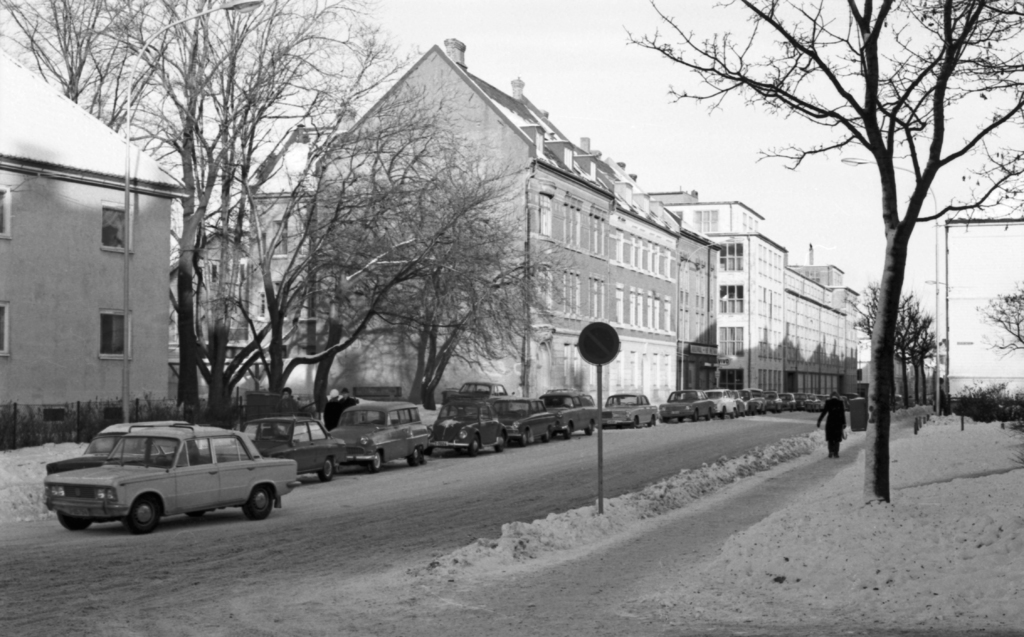Car: (48, 417, 215, 479), (242, 410, 347, 486), (330, 397, 427, 462), (428, 397, 506, 458), (492, 390, 557, 445), (591, 390, 658, 436), (547, 386, 600, 442), (654, 386, 714, 425), (708, 383, 737, 422), (458, 376, 503, 400), (732, 387, 746, 420), (764, 387, 781, 412), (750, 390, 766, 416), (803, 392, 823, 411), (784, 391, 797, 413), (794, 391, 807, 408)
